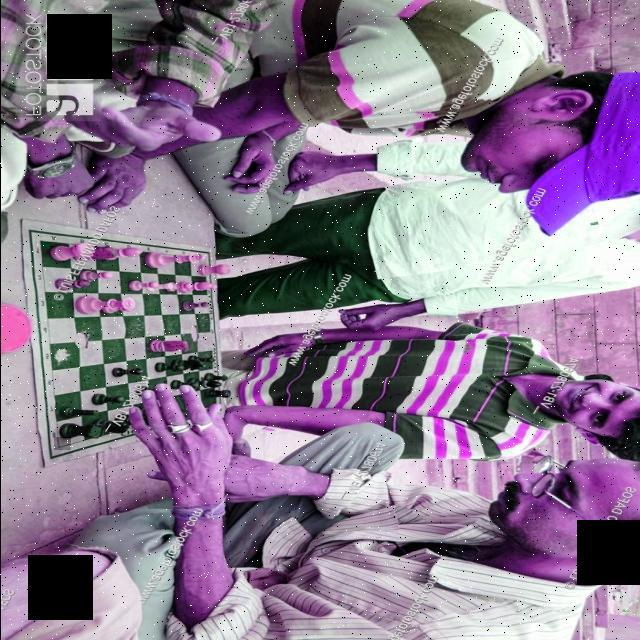chess-table-corners: (53, 437, 70, 450), (36, 237, 51, 247)
